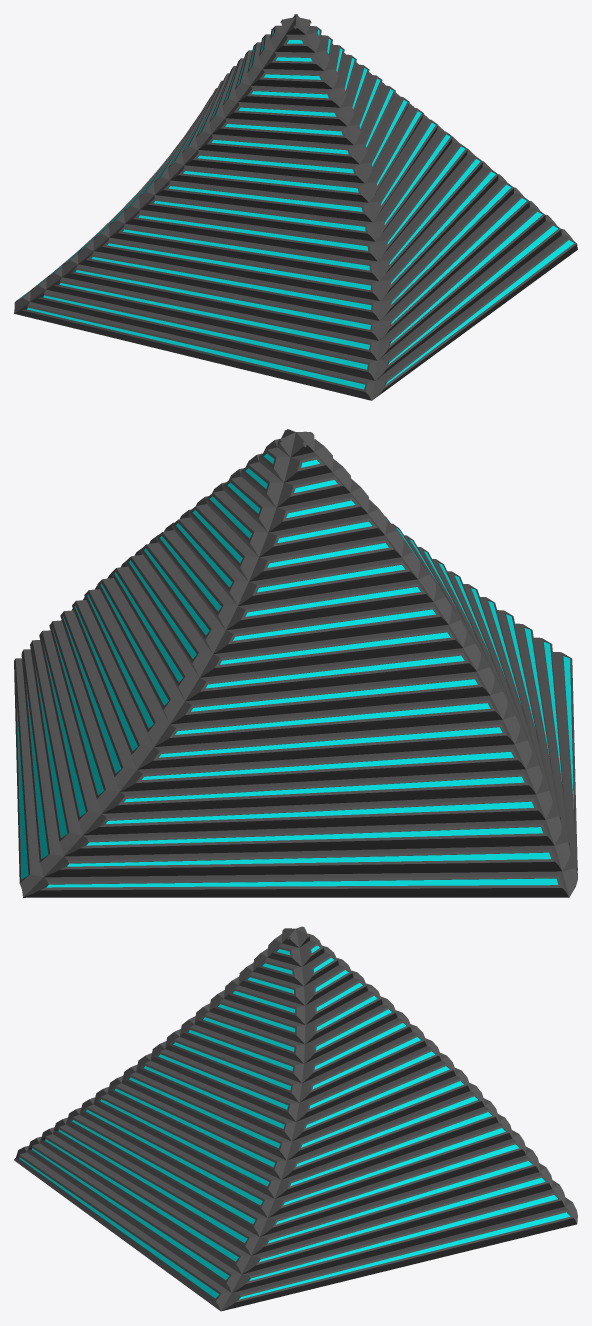
File: building5.fbx
3 renders of one model, top to bottom at view 1: azimuth 30°, elevation 25°; view 2: azimuth 150°, elevation 25°; view 3: azimuth 270°, elevation 25°, orthographic. The views are drawn at different scales.
Parts seen in each view (by area): view 1: pPyramid3; view 2: pPyramid3; view 3: pPyramid3.
Boxes of the visible parts, left/top/right/bottom form: pPyramid3: left=14, top=14, right=577, bottom=400; pPyramid3: left=14, top=429, right=577, bottom=897; pPyramid3: left=14, top=926, right=577, bottom=1311.
Size of the model in its own units: 135 by 69.83 by 135.
